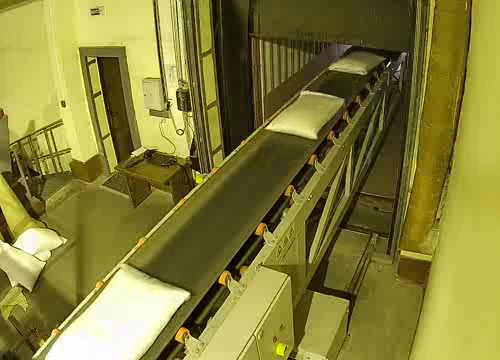bag: (43, 260, 198, 360), (265, 88, 347, 142), (328, 48, 386, 76)
